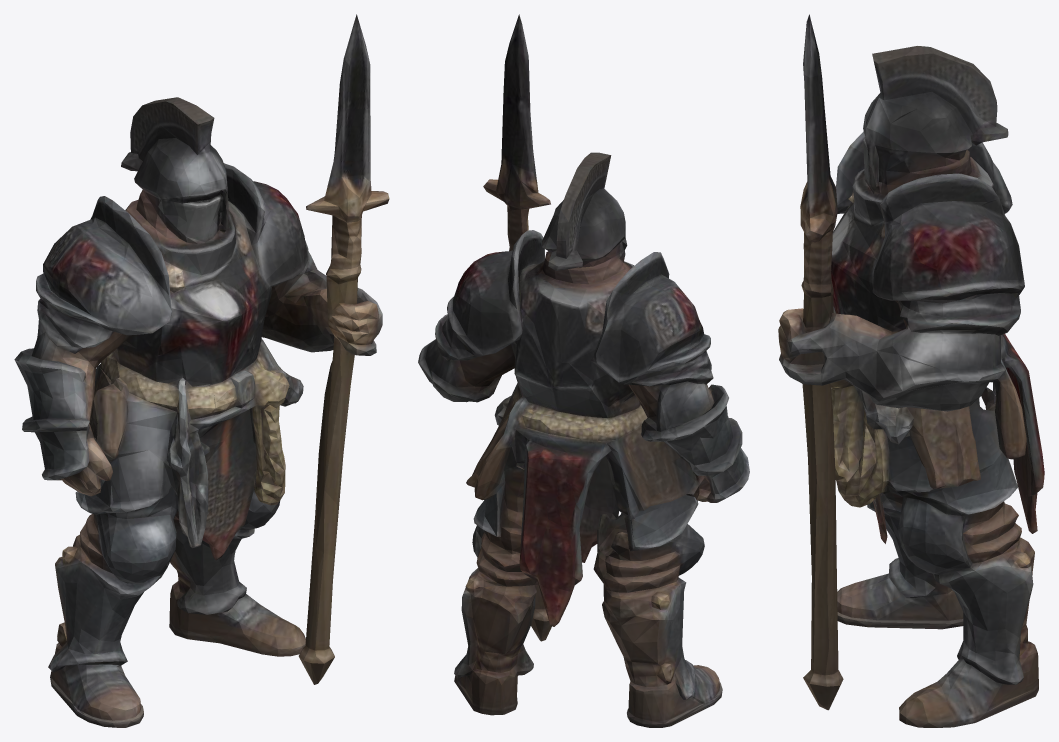
File: warderSpearman.glb
The picture shows the model from 3 angles, left to right: view 1: azimuth 30°, elevation 25°; view 2: azimuth 150°, elevation 25°; view 3: azimuth 270°, elevation 25°; orthographic projection. The views are drawn at different scales.
Parts seen in each view (by area): view 1: world; view 2: world; view 3: world.
Part boxes in pixels (left/top/right/bottom): world: left=14, top=14, right=389, bottom=727; world: left=418, top=14, right=749, bottom=727; world: left=778, top=14, right=1044, bottom=727.
Size of the model in its own units: 0.5043 by 1 by 0.3388.
1 material, 1 textured.
